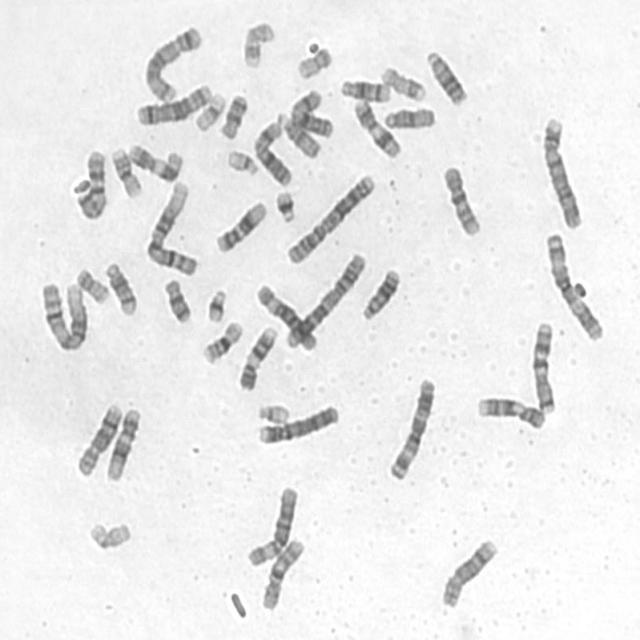A1: (141, 175, 199, 277), (36, 275, 90, 352)
A2: (282, 168, 377, 266), (281, 247, 368, 351)
A3: (540, 226, 606, 342), (384, 372, 437, 482)
B4: (537, 111, 585, 230), (253, 398, 341, 446)
B5: (138, 20, 204, 104), (132, 77, 214, 127)
C10: (256, 533, 306, 612), (437, 159, 483, 238)
C11: (349, 94, 403, 160), (124, 137, 184, 184)
C12: (211, 195, 268, 255), (101, 402, 142, 482)
C6: (251, 278, 319, 352), (242, 481, 299, 568)
C7: (527, 315, 558, 415), (70, 143, 109, 221)
C8: (436, 533, 499, 609), (71, 396, 124, 478)
C9: (233, 320, 278, 392), (473, 391, 547, 430)
D13: (421, 44, 468, 107), (357, 262, 402, 322)
D14: (100, 256, 139, 317), (336, 73, 393, 104)
D15: (275, 106, 323, 160), (380, 102, 437, 130)
E16: (197, 314, 244, 366), (106, 142, 144, 199)
E17: (376, 59, 428, 102), (238, 16, 276, 69)
E18: (159, 272, 193, 324), (215, 89, 249, 140)
F19: (83, 515, 133, 551), (190, 86, 227, 132)
F20: (292, 41, 334, 80), (72, 262, 110, 305)
G21: (202, 284, 228, 324), (271, 185, 297, 223)
G22: (222, 145, 260, 177), (253, 398, 292, 424)
X: (249, 114, 294, 187), (285, 83, 336, 139)
